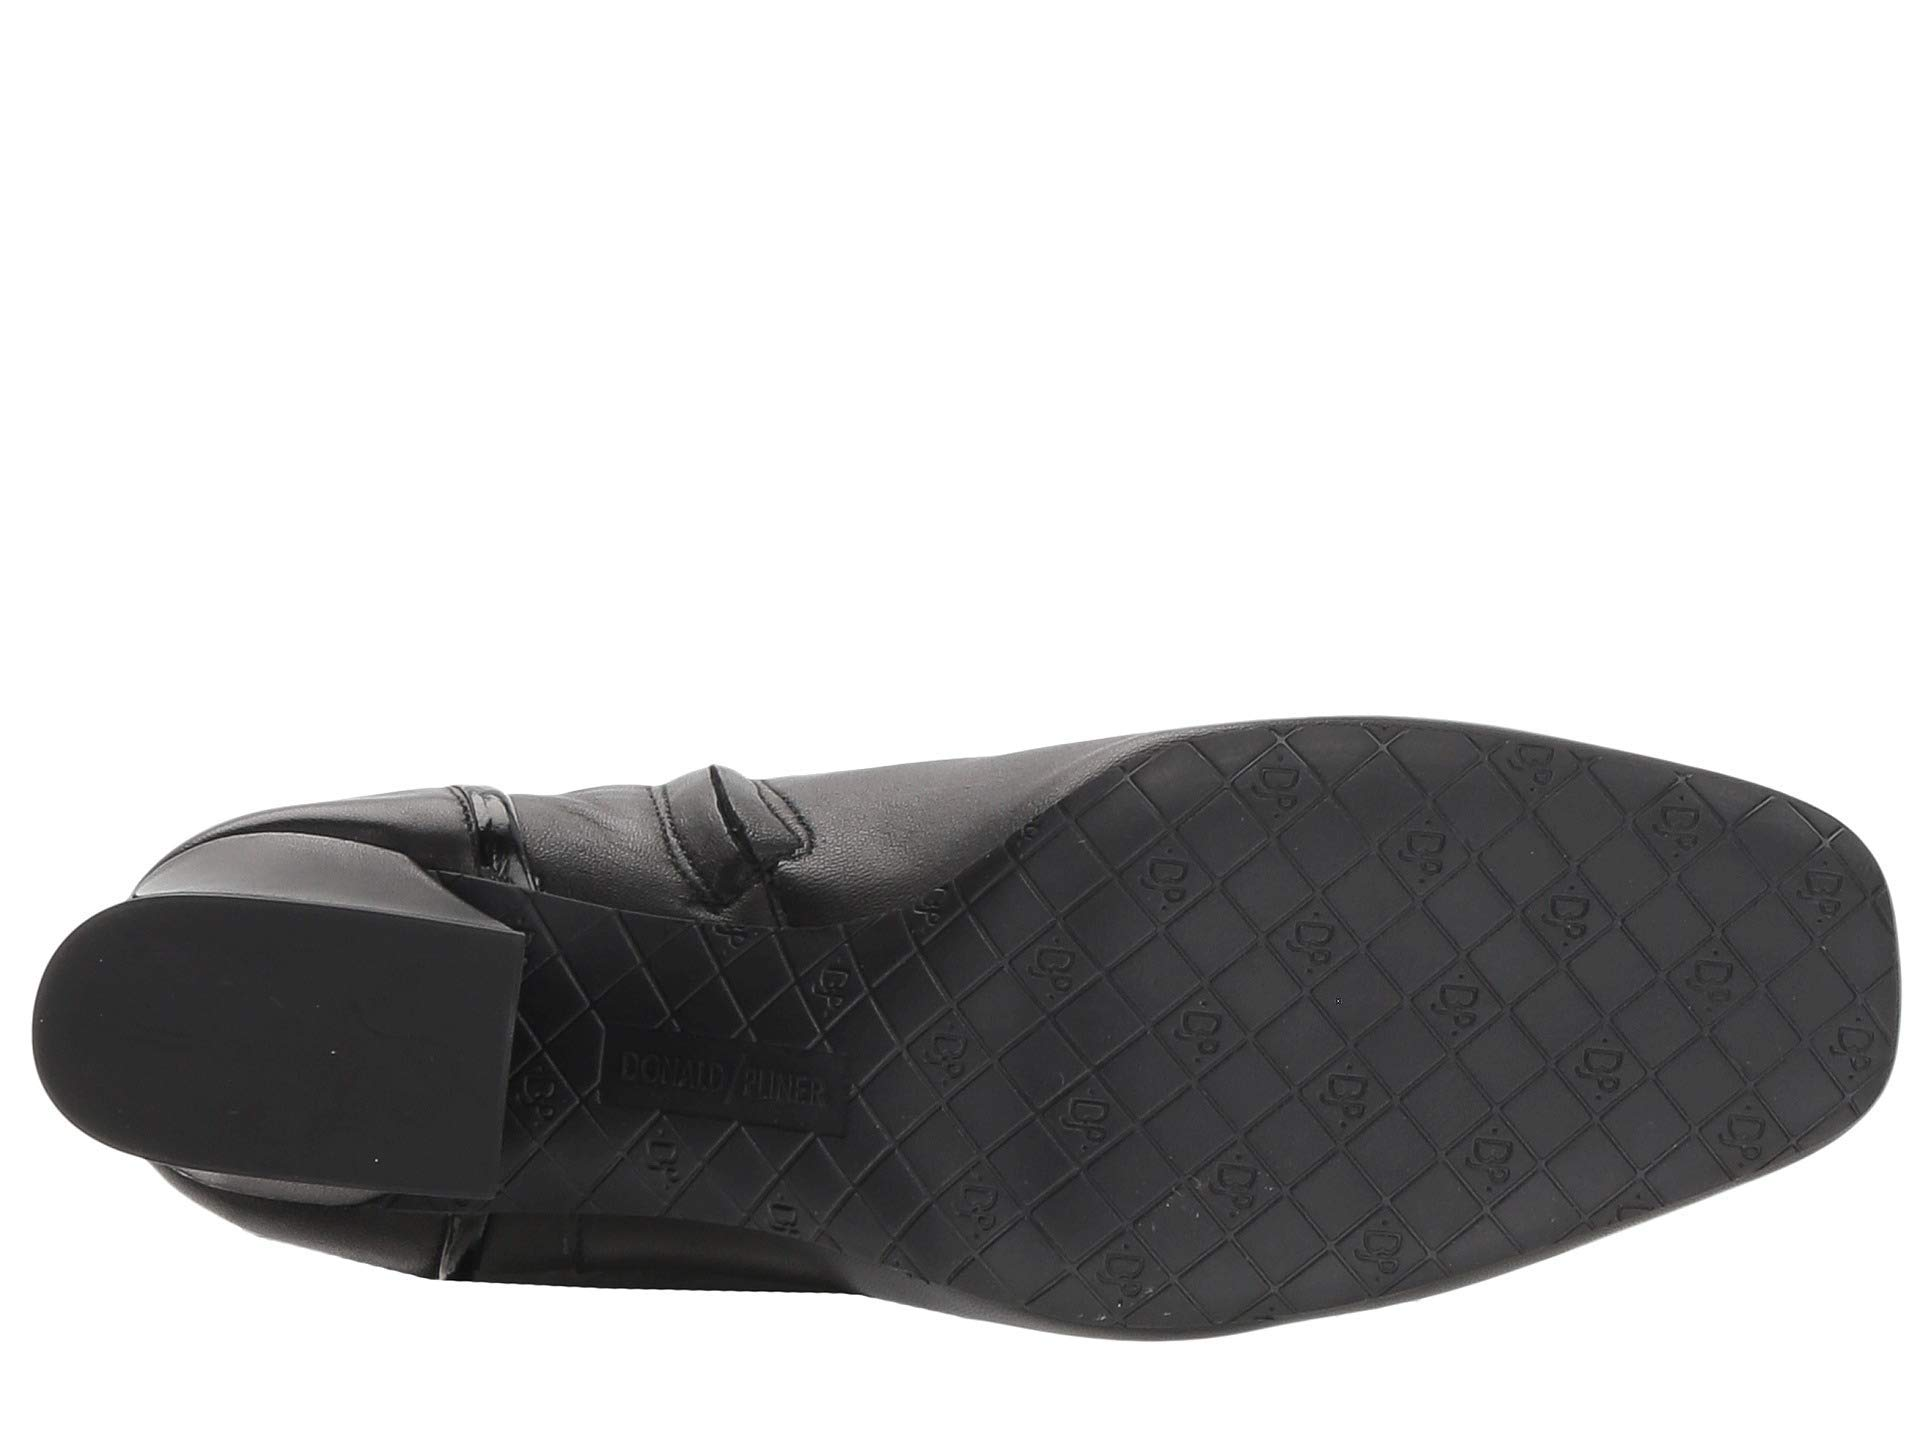quad: (1160, 790, 1714, 1127)
text: (1160, 790, 1714, 1127)
